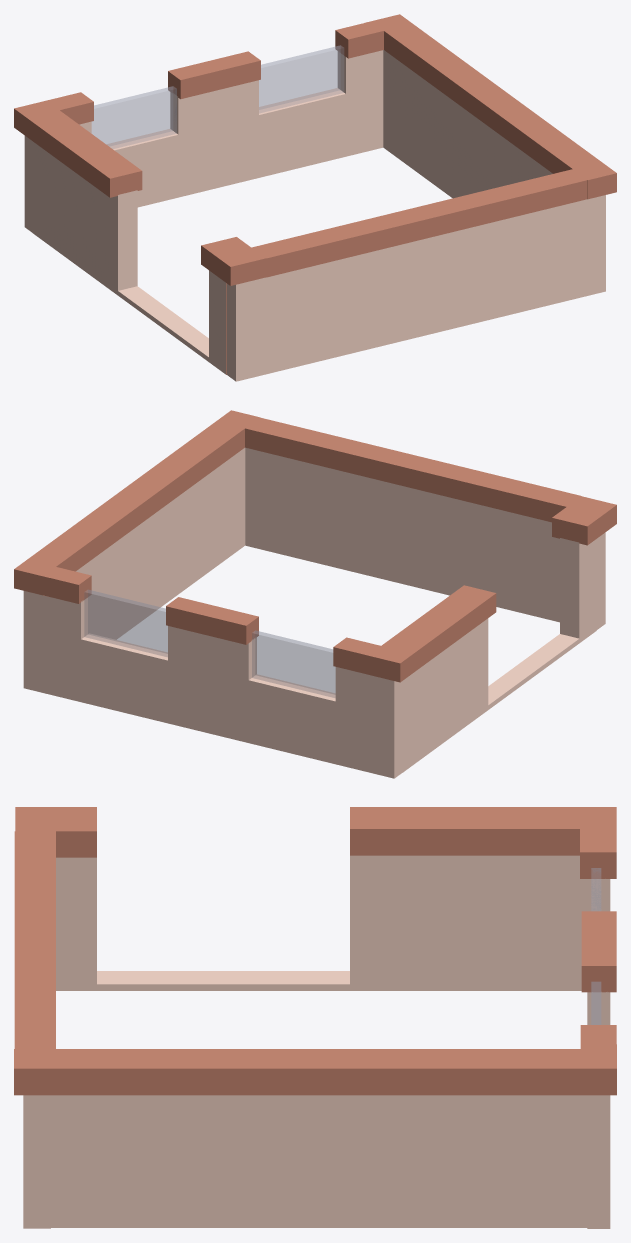
Rendered from M6BO_Model_Redo.fbx.
3 views of the same model, one above another, from view 1: azimuth 30°, elevation 25°; view 2: azimuth 150°, elevation 25°; view 3: azimuth 270°, elevation 25° (orthographic). The views are drawn at different scales.
Visible parts, largest first — view 1: Muur_Kleur; view 2: Muur_Kleur; view 3: Muur_Kleur.
Boxes of the visible parts, x1=… form: Muur_Kleur: x1=14, y1=14, x2=616, y2=381; Muur_Kleur: x1=14, y1=410, x2=616, y2=778; Muur_Kleur: x1=14, y1=807, x2=616, y2=1228.
Bounding box in the file's own units: 889 × 262 × 866.
